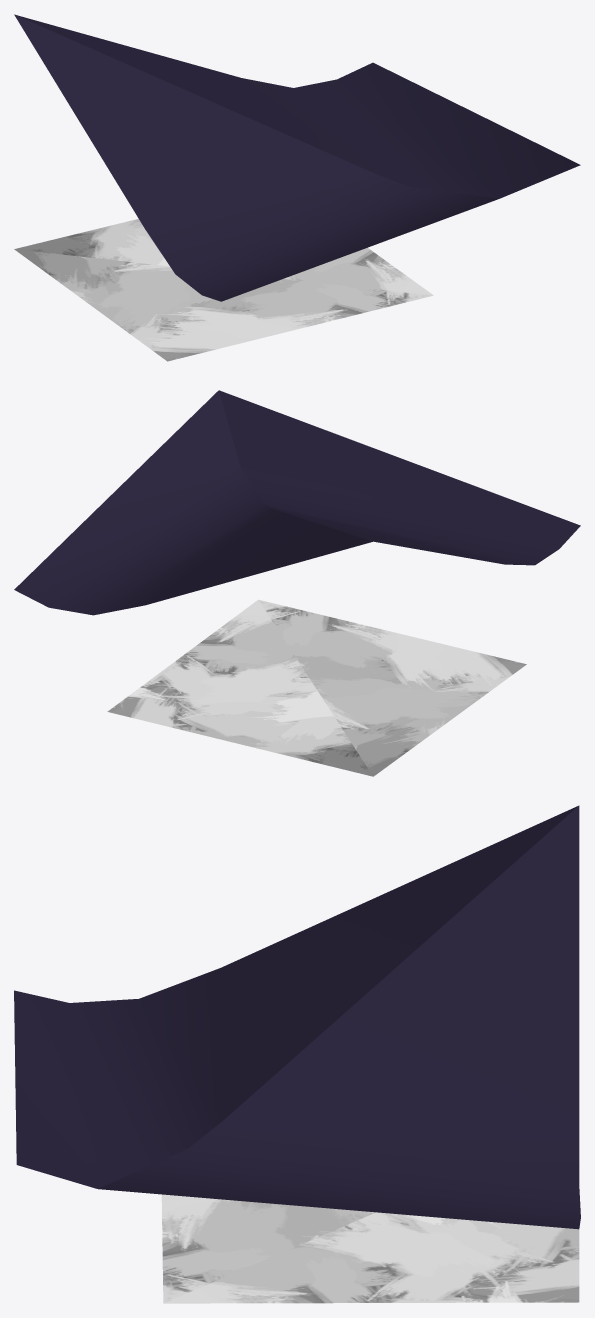
Rendered from BRoofCorner_B.fbx.
The picture shows the model from 3 angles, top to bottom: view 1: azimuth 30°, elevation 25°; view 2: azimuth 150°, elevation 25°; view 3: azimuth 270°, elevation 25°; orthographic projection. The views are drawn at different scales.
Visible parts, largest first — view 1: BRoofCorner_B; view 2: BRoofCorner_B; view 3: BRoofCorner_B.
Part boxes in pixels (box(x1,y1,x2,y2)): BRoofCorner_B: box(14, 14, 580, 361); BRoofCorner_B: box(14, 390, 580, 776); BRoofCorner_B: box(14, 805, 580, 1303).
Bounding box in the file's own units: 402 × 250 × 401.
